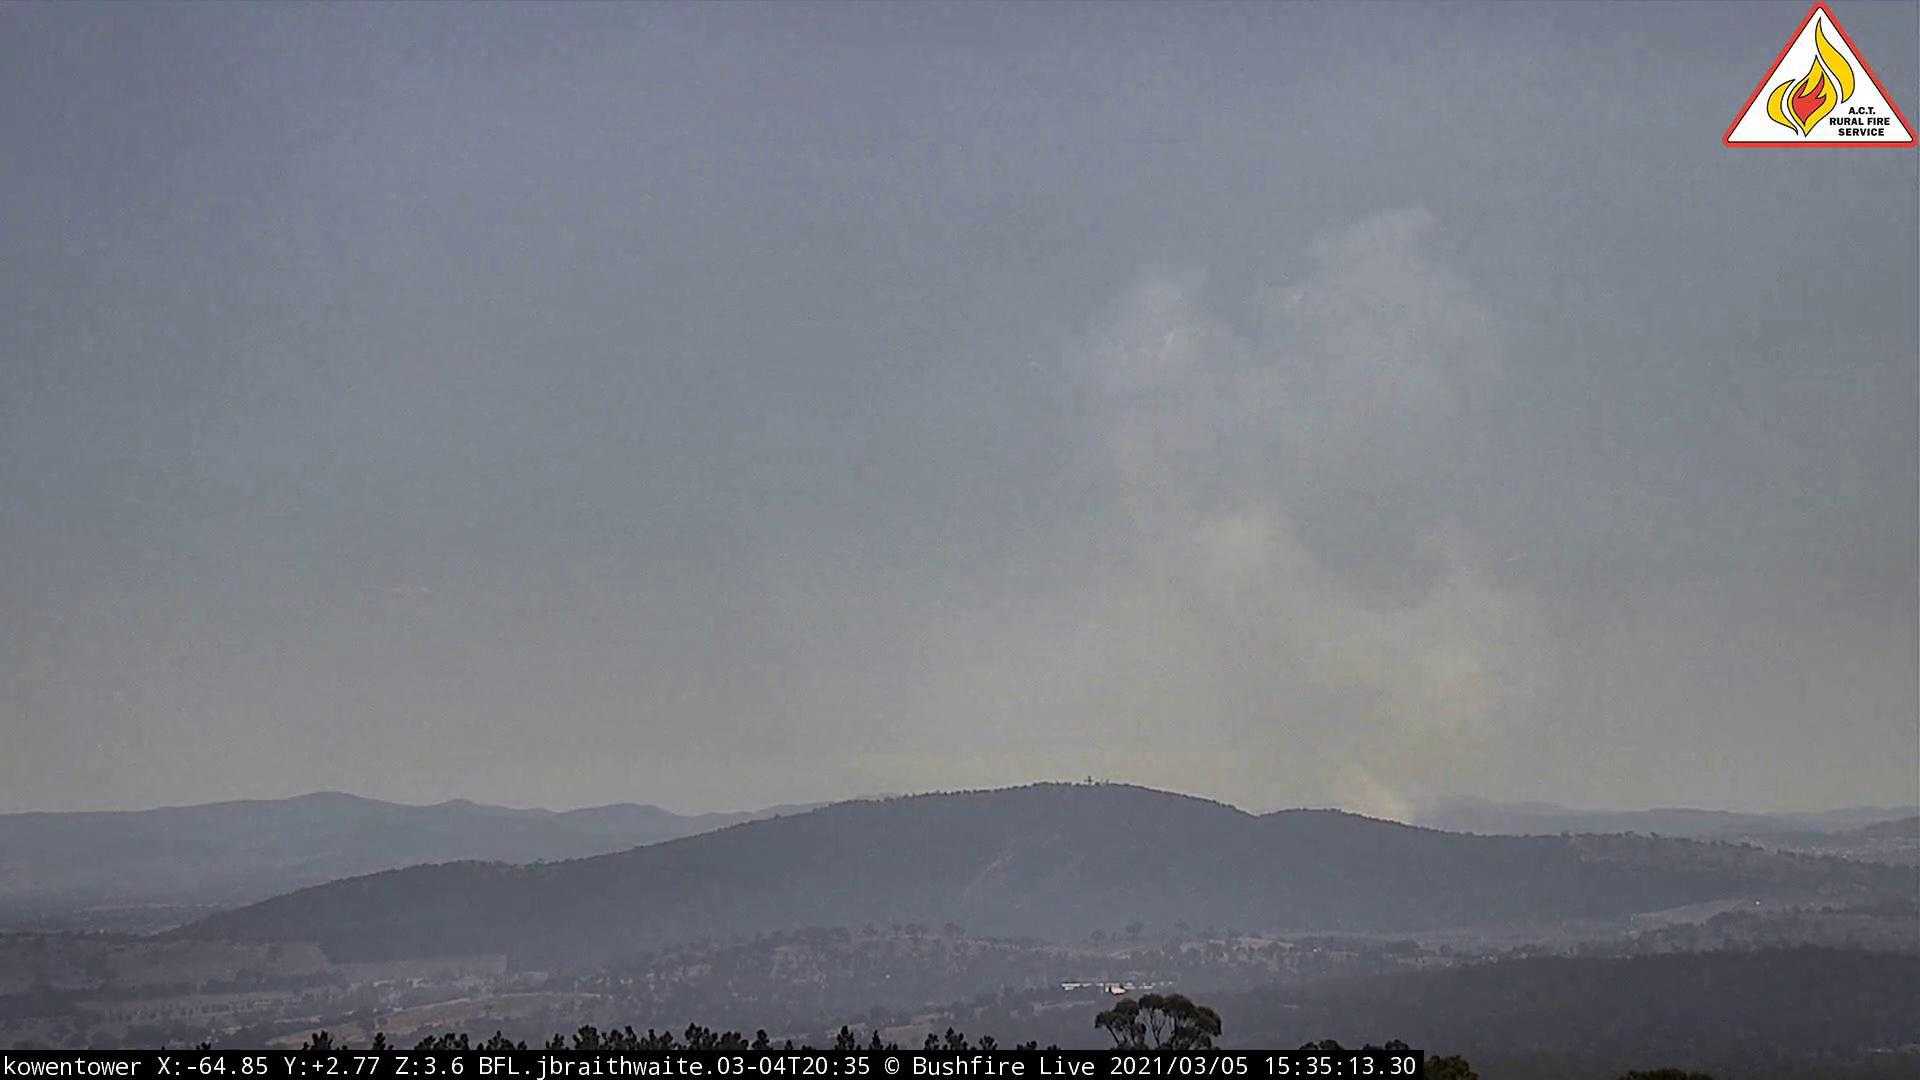instance_salient_object: (928, 208, 1581, 848)
